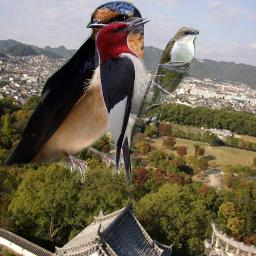Cuckoo: (141, 26, 199, 120)
Swallow: (3, 0, 144, 183)
Woodpecker: (95, 17, 167, 188)
